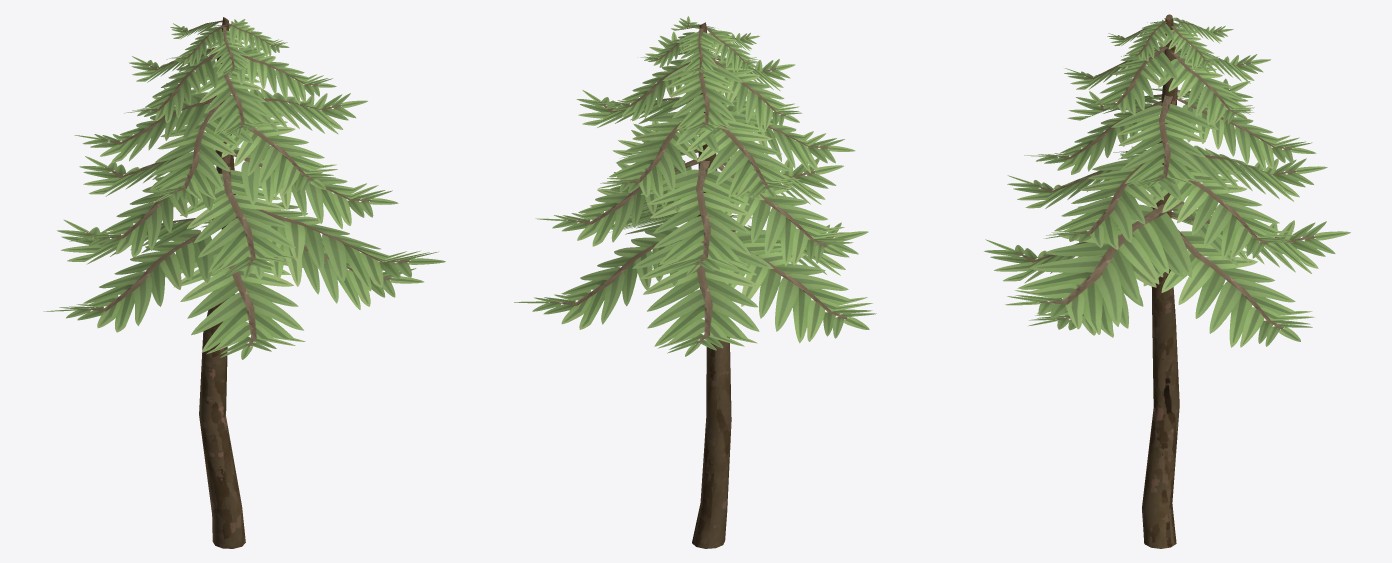
Rendered from pine_4.glb.
3 renders of one model, left to right at view 1: azimuth 30°, elevation 25°; view 2: azimuth 150°, elevation 25°; view 3: azimuth 270°, elevation 25°, orthographic.
Visible parts, largest first — view 1: Pine_4; view 2: Pine_4; view 3: Pine_4.
Boxes of the visible parts, bbox=[...] form: Pine_4: bbox=[43, 17, 445, 548]; Pine_4: bbox=[514, 16, 876, 548]; Pine_4: bbox=[984, 14, 1350, 548].
Size of the model in its own units: 4.31 by 5.67 by 4.18.
Materials: 2 (2 with a texture image).
